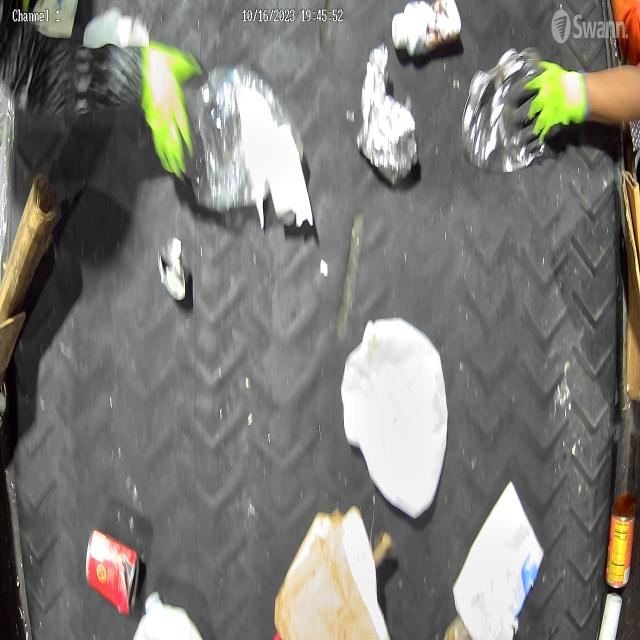can: (85, 525, 140, 615), (157, 234, 192, 303)
milk_jug: (340, 316, 450, 519), (132, 589, 206, 640)
